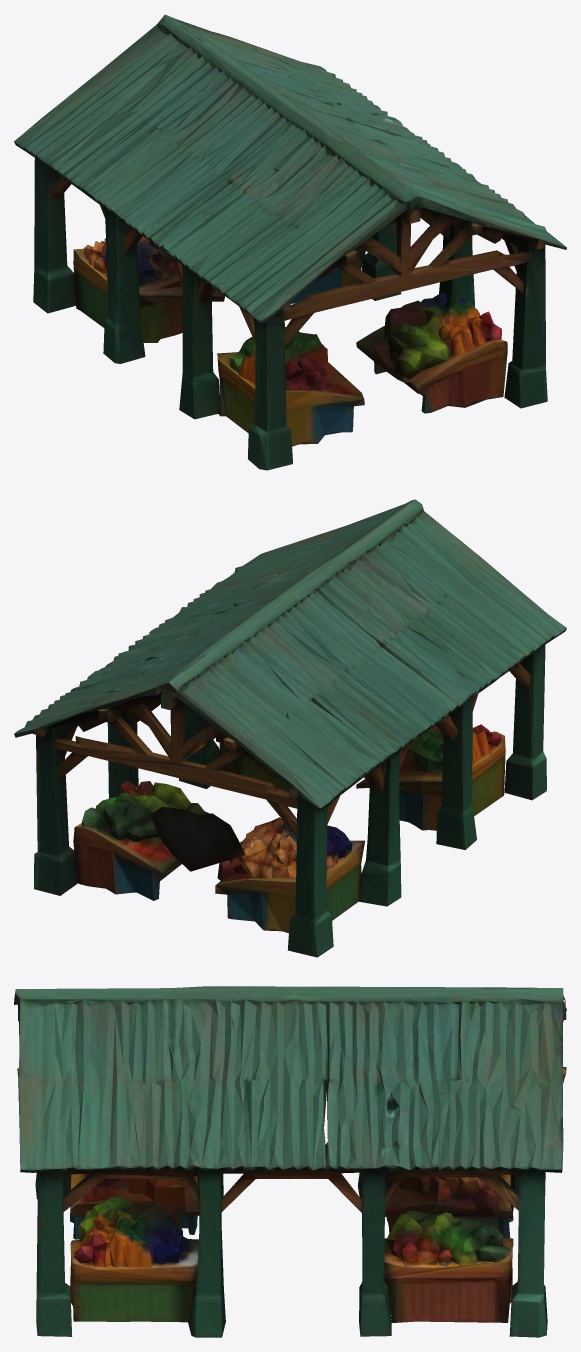
The model's file is b-market.glb.
The picture shows the model from 3 angles, top to bottom: view 1: azimuth 30°, elevation 25°; view 2: azimuth 150°, elevation 25°; view 3: azimuth 270°, elevation 25°; orthographic projection. The views are drawn at different scales.
Parts seen in each view (by area): view 1: geometry_0; view 2: geometry_0; view 3: geometry_0.
Boxes of the visible parts, box(x1,y1,x2,y2) form: geometry_0: box(14, 14, 566, 470); geometry_0: box(14, 499, 566, 957); geometry_0: box(14, 986, 566, 1337).
Bounding box in the file's own units: 0.6963 × 0.5368 × 0.9827.
1 material, 1 textured.
